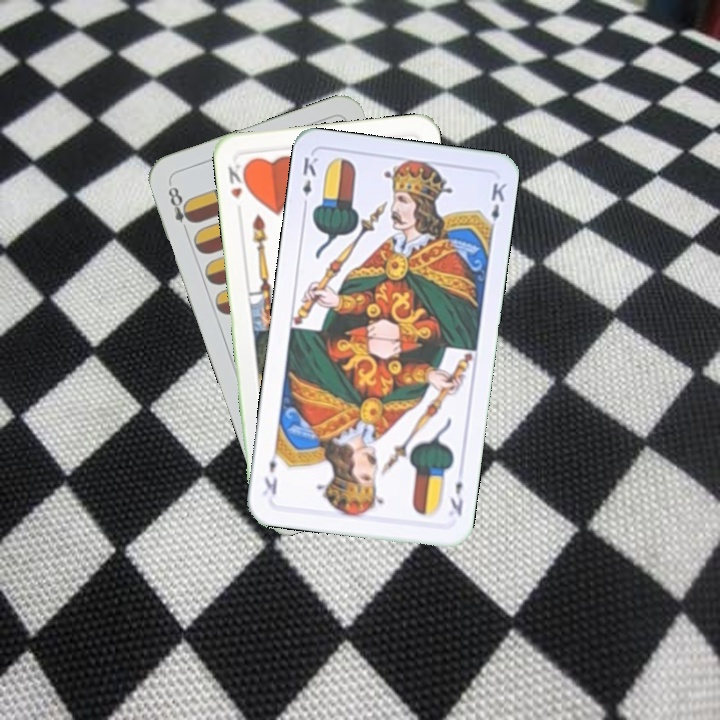E8: (164, 182, 197, 237)
EK: (298, 153, 321, 212), (446, 477, 466, 518)
HK: (224, 156, 251, 202)
